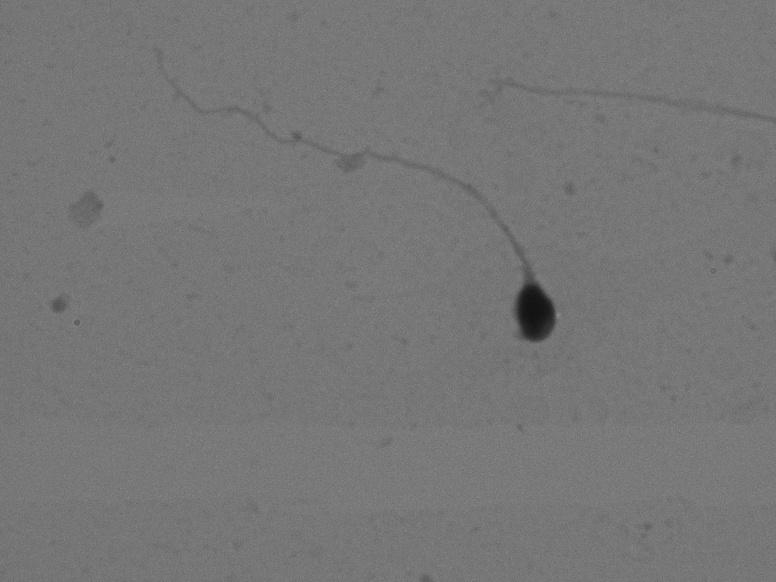Normal: (121, 35, 593, 373)
